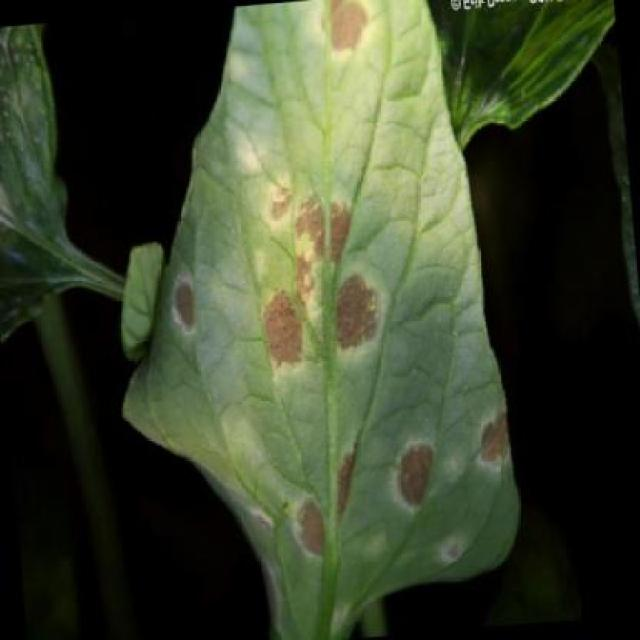Leaf Mold: (92, 0, 531, 637)
